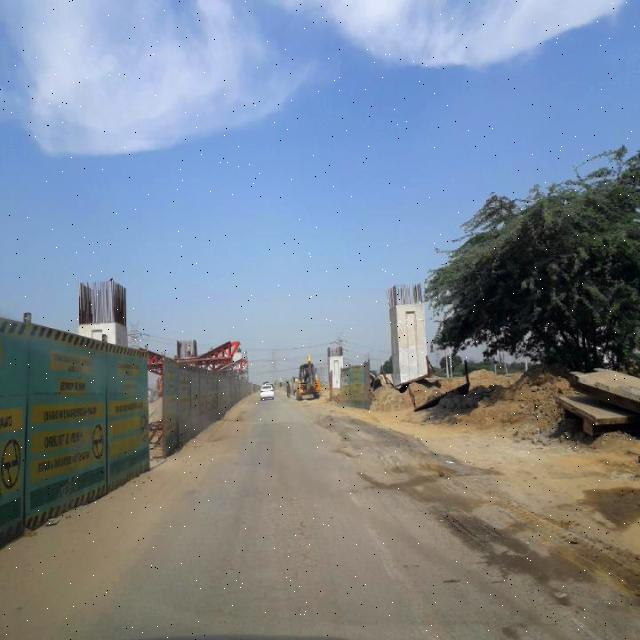D00: (438, 508, 499, 553)
